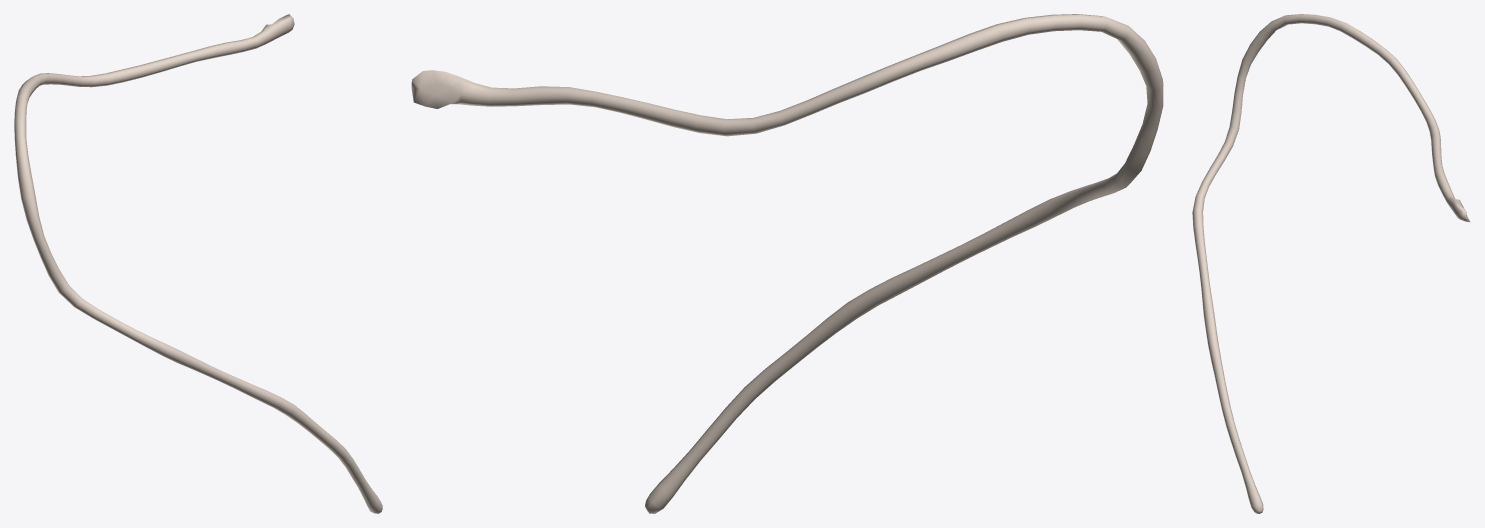
File: frau2-448.glb
3 views of the same model, side by side, from view 1: azimuth 30°, elevation 25°; view 2: azimuth 150°, elevation 25°; view 3: azimuth 270°, elevation 25° (orthographic). The views are drawn at different scales.
Parts seen in each view (by area): view 1: VH_F_left_round_ligament_of_uterus; view 2: VH_F_left_round_ligament_of_uterus; view 3: VH_F_left_round_ligament_of_uterus.
Part boxes in pixels (x1,y1,x2,y2): VH_F_left_round_ligament_of_uterus: (14, 14, 382, 513); VH_F_left_round_ligament_of_uterus: (411, 14, 1163, 513); VH_F_left_round_ligament_of_uterus: (1192, 14, 1470, 513).
Size of the model in its own units: 0.0608 by 0.0668 by 0.0451.
